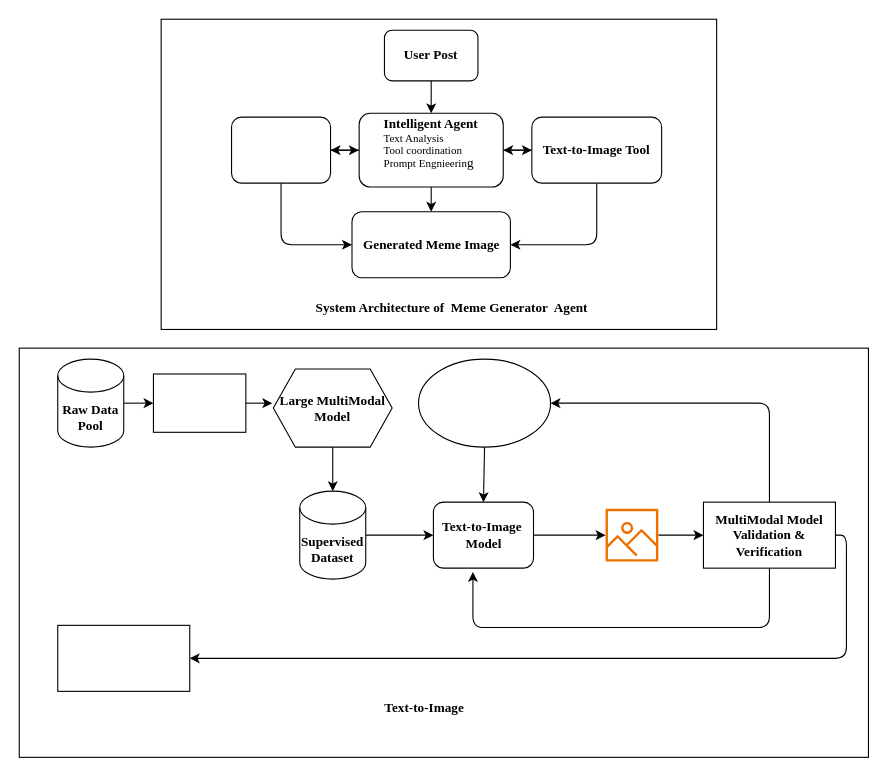
The diagram is 888 pixels wide and 777 high, and some of its shapes have lost their labels. Each missing label, with the centre of its shape:
Data Cleaning Pipeline: the point at 199,402
Final Meme Image: the point at 123,657
Prompt Optimization: the point at 484,402
Retrieval Tool Databse: the point at 280,149
